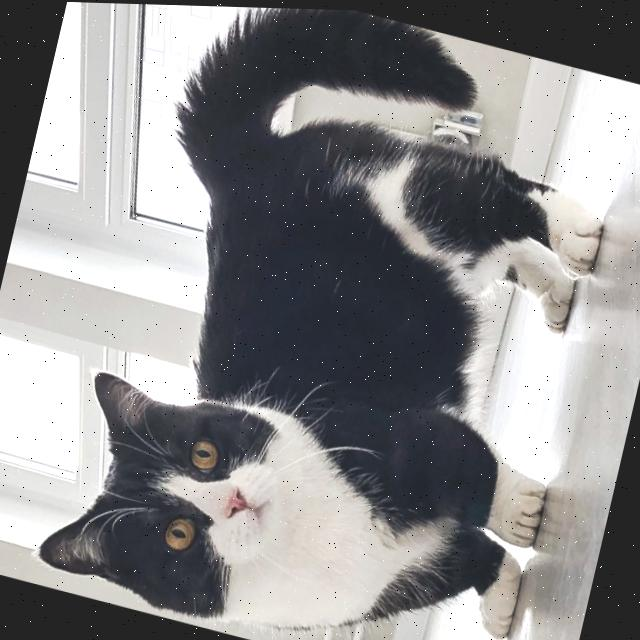Munchkin: (21, 0, 640, 640)
